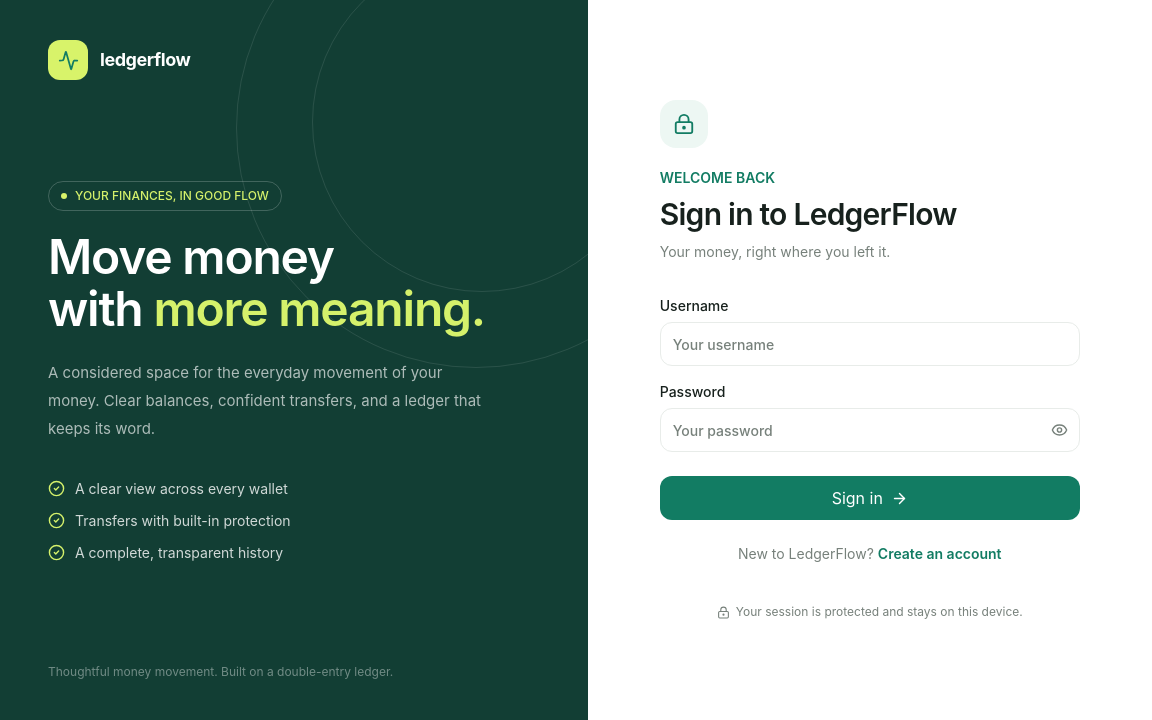
Test: authentication form › shows API errors to the user
Step 1. Type "maya" into the field labelled "Username" → (870, 344), box x1=660 y1=322 x2=1080 y2=366
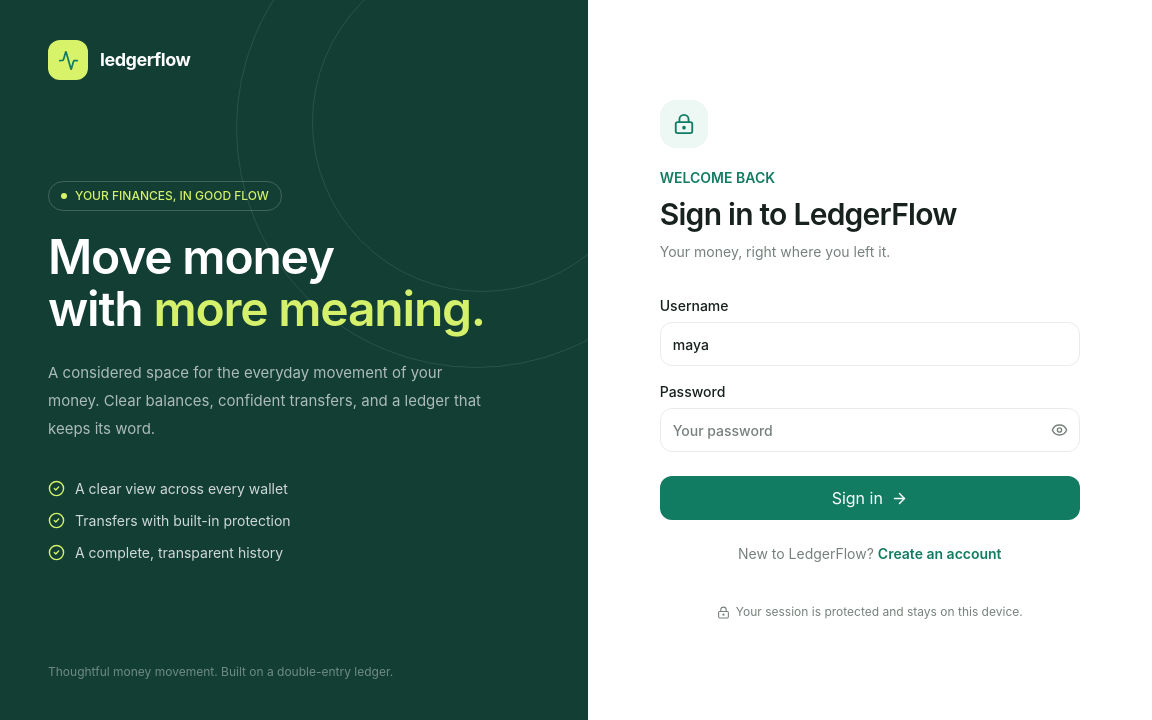
Step 2. Type "incorrect" into the password field labelled "Password" → (870, 430), box x1=660 y1=408 x2=1080 y2=452
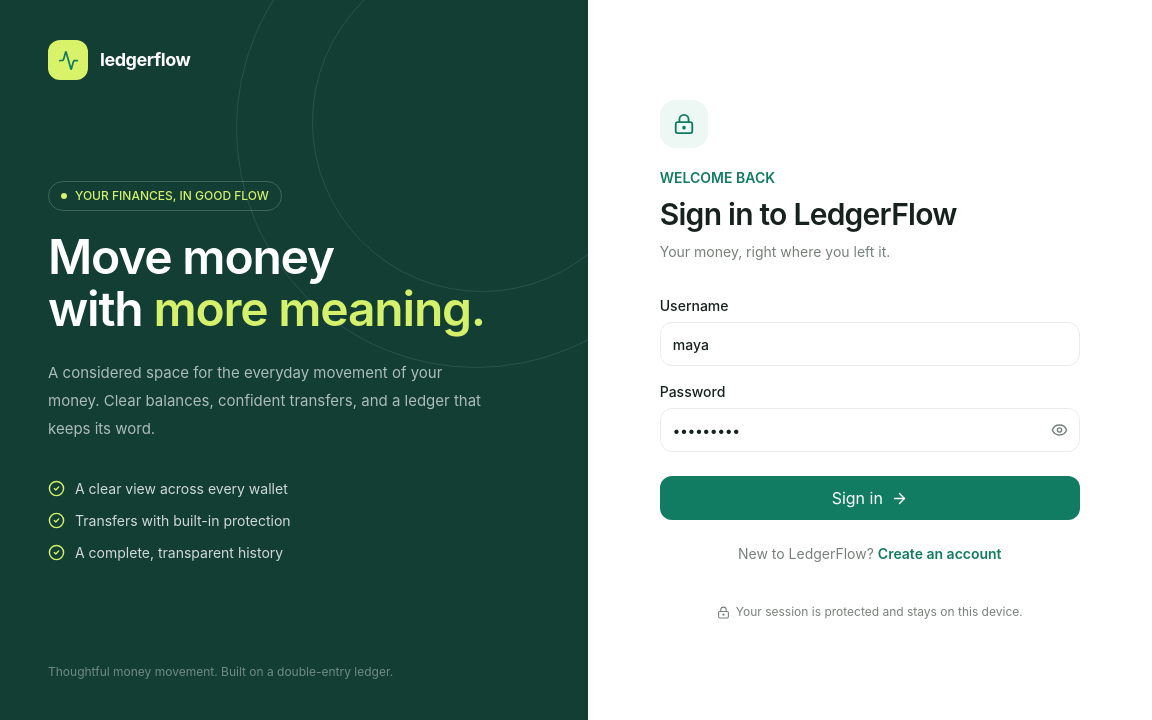
Step 3. Click the button "Sign in" → (870, 498), box x1=660 y1=476 x2=1080 y2=520
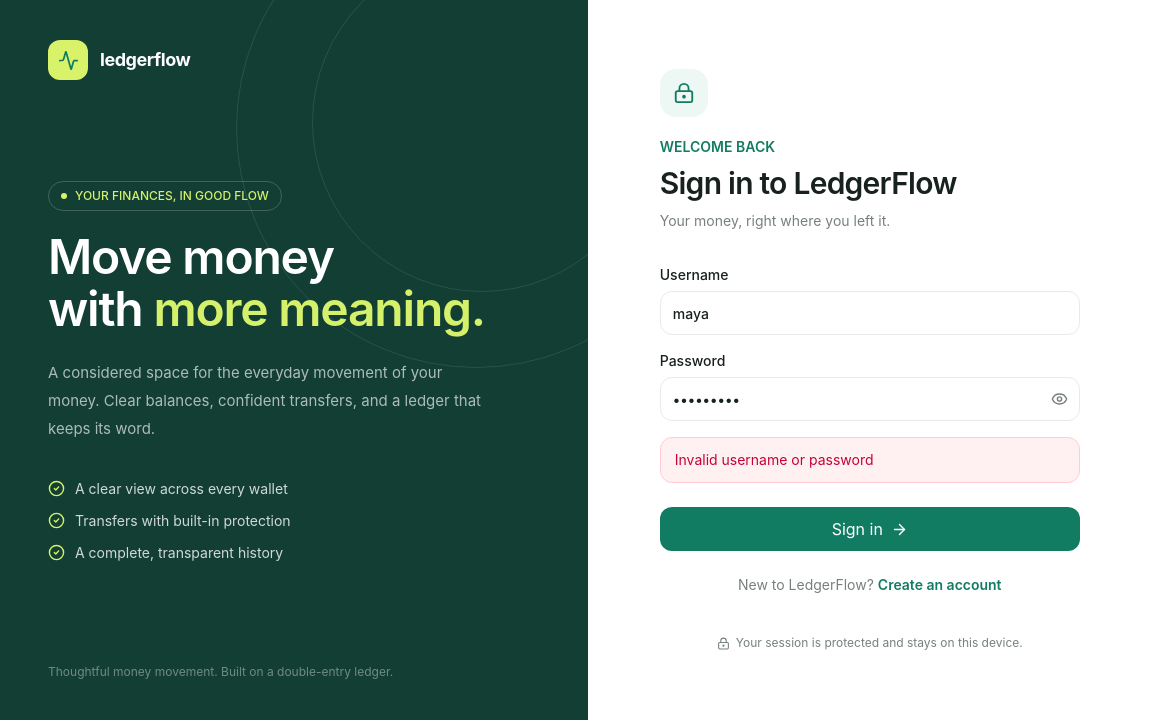
Expected: the message reads "Invalid username or password", x1=675 y1=451 x2=874 y2=468
